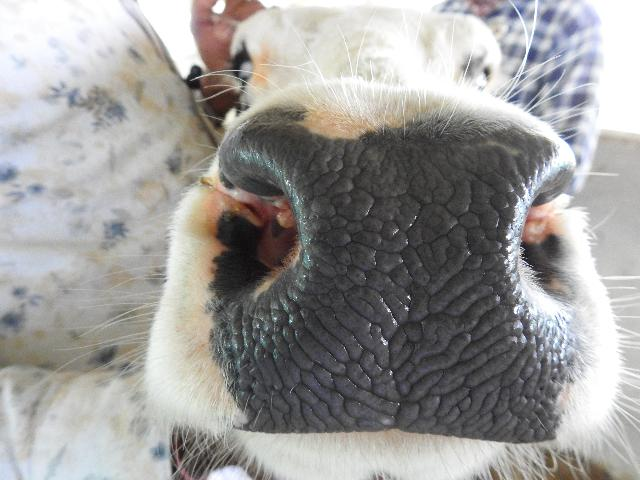Muzzle: (256, 135, 510, 433)
